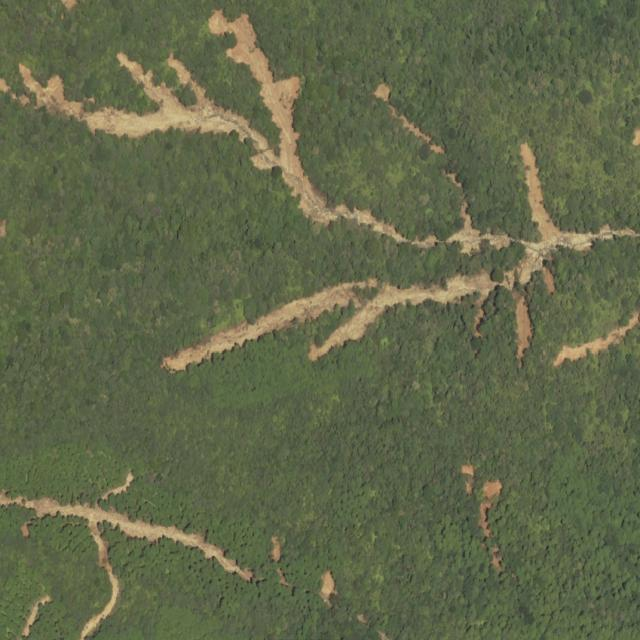landslide: (19, 9, 438, 247), (0, 491, 253, 582), (162, 279, 378, 372), (308, 271, 498, 360), (374, 82, 445, 153), (555, 311, 640, 367), (522, 142, 563, 240), (0, 492, 102, 525), (448, 196, 484, 253), (514, 291, 533, 367), (485, 234, 511, 249), (544, 266, 556, 293), (109, 577, 118, 607), (446, 174, 463, 187), (99, 551, 105, 568), (149, 527, 175, 530)
